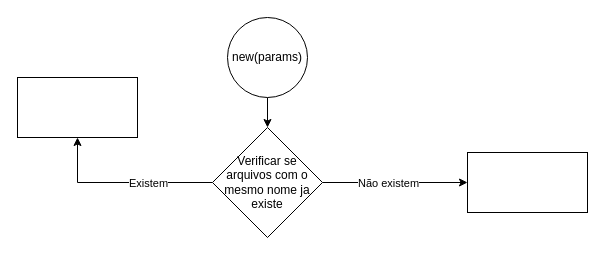
Some shapes in this 605 by 255 pixel diagram are drawn without their labels. The shapes that lost their labels are listed below. From the top down, each one's centre as x and y in pixels, then its label:
the point at 77,107: Retornar Erro (InstanceFileConflict)
the point at 527,182: Criar arquivos da Instancia
